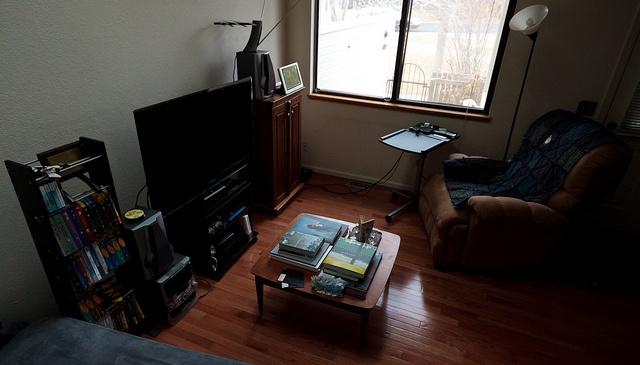Lemari: (266, 85, 307, 215)
Meja: (251, 212, 402, 344)
Rak: (3, 135, 153, 335)
